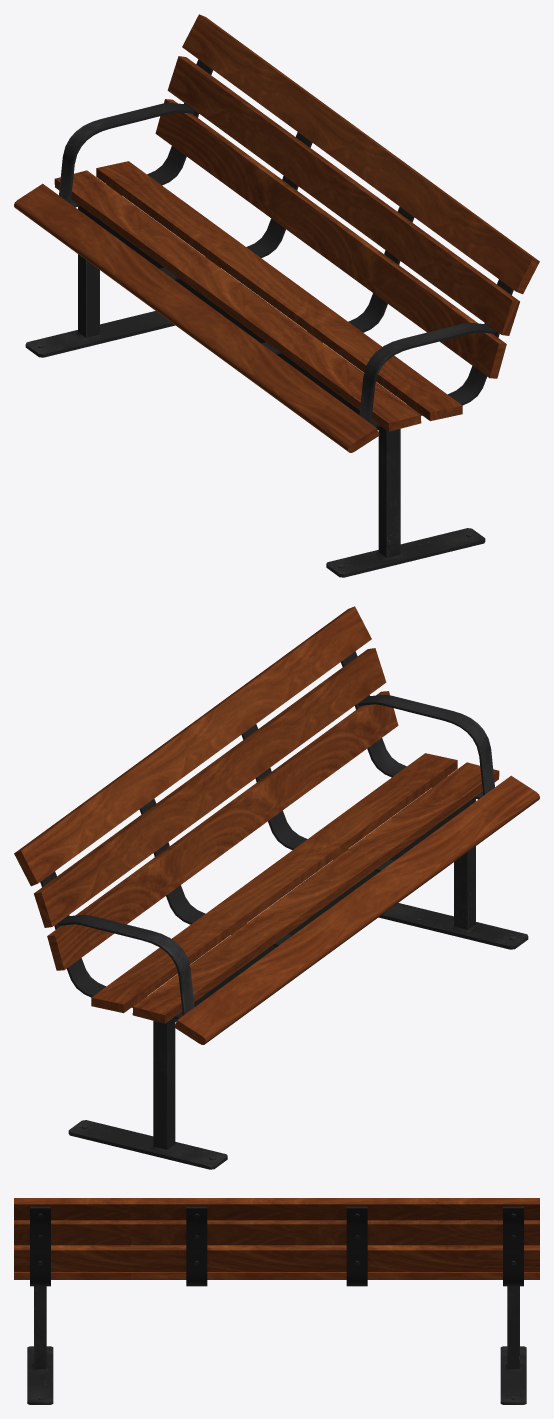
Rendered from Bench_4.obj.
The picture shows the model from 3 angles, top to bottom: view 1: azimuth 30°, elevation 25°; view 2: azimuth 150°, elevation 25°; view 3: azimuth 270°, elevation 25°; orthographic projection. The views are drawn at different scales.
Parts seen in each view (by area): view 1: Bench_4_01_low_Cube.002; view 2: Bench_4_01_low_Cube.002; view 3: Bench_4_01_low_Cube.002.
Part boxes in pixels (box(x1,y1,x2,y2)): Bench_4_01_low_Cube.002: box(14, 14, 539, 577); Bench_4_01_low_Cube.002: box(14, 606, 539, 1169); Bench_4_01_low_Cube.002: box(14, 1198, 539, 1404).
Bounding box in the file's own units: 0.5927 × 0.8292 × 1.79.
Materials: 1 (1 with a texture image).
